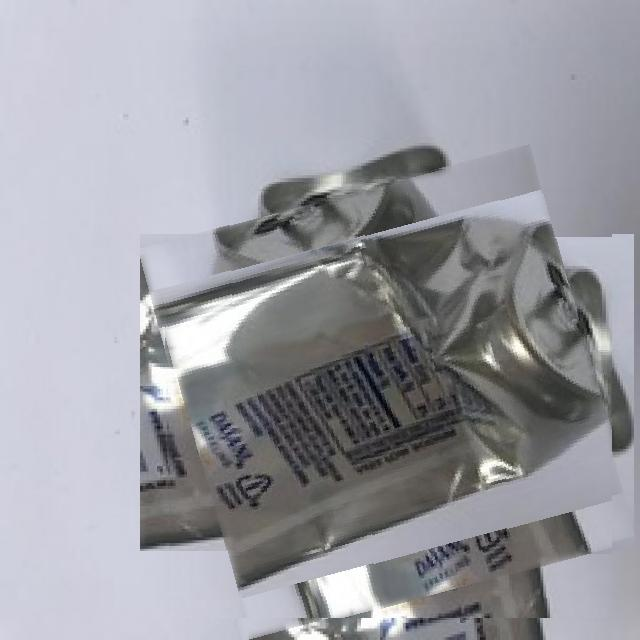recyclable: (161, 167, 612, 618)
